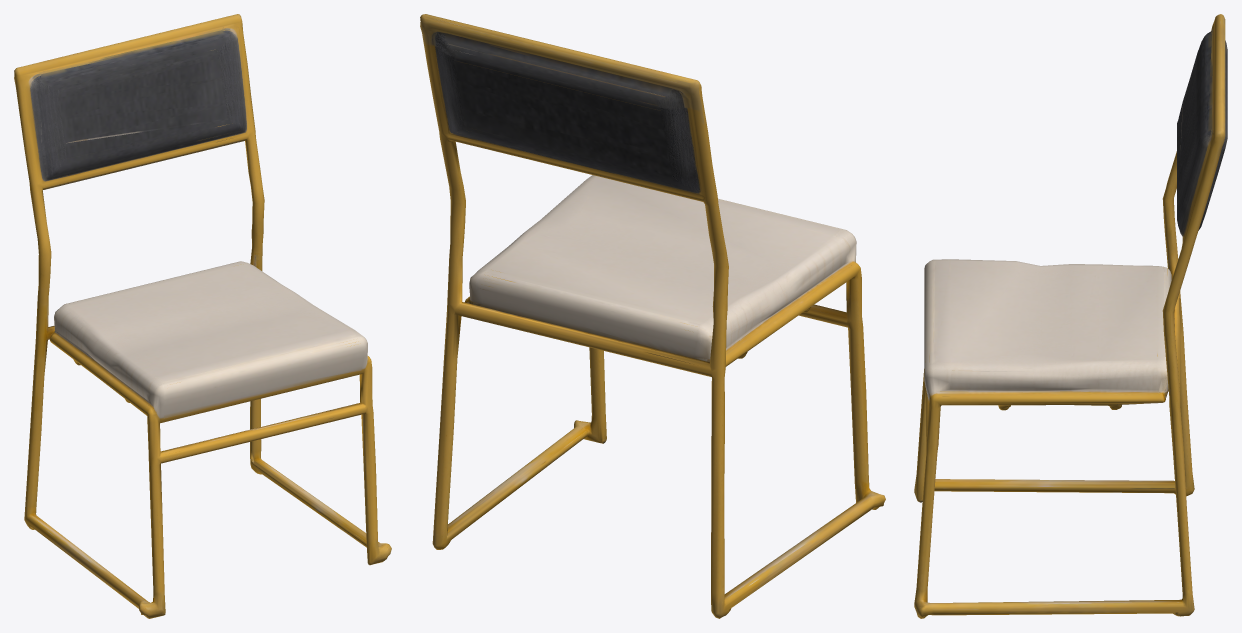
The model's file is Zion_Chair_Gold_wit_0320031222_texture.glb.
3 renders of one model, left to right at view 1: azimuth 30°, elevation 25°; view 2: azimuth 150°, elevation 25°; view 3: azimuth 270°, elevation 25°, orthographic. The views are drawn at different scales.
Parts seen in each view (by area): view 1: Mesh_0.001; view 2: Mesh_0.001; view 3: Mesh_0.001.
Part boxes in pixels (box(x1,y1,x2,y2)): Mesh_0.001: box(14, 14, 391, 618); Mesh_0.001: box(420, 14, 885, 618); Mesh_0.001: box(914, 14, 1227, 618).
Size of the model in its own units: 0.5389 by 0.9144 by 0.5351.
Materials: 1 (1 with a texture image).
